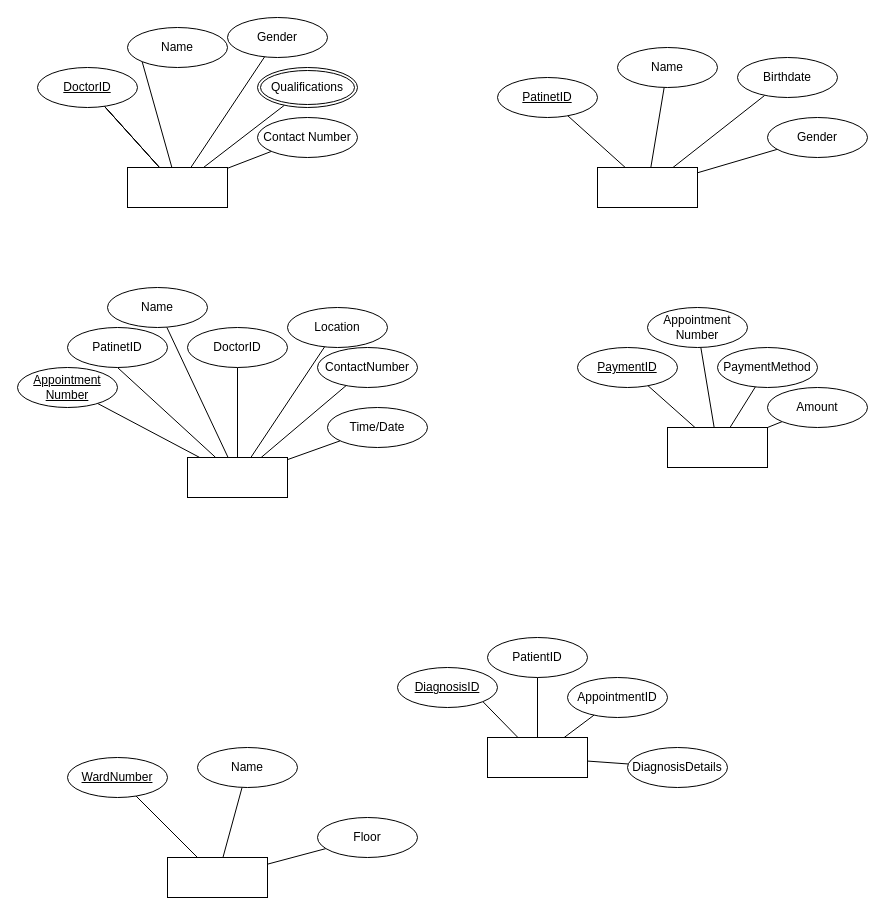
The diagram is 885 pixels wide and 915 high, and some of its shapes have lost their labels. The centre of each missing label's shape, as x and y in pixels:
Appointment: point (237, 477)
Diagnosis: point (537, 757)
Doctor: point (177, 187)
Patient: point (647, 187)
Payment: point (717, 447)
Ward: point (217, 877)
